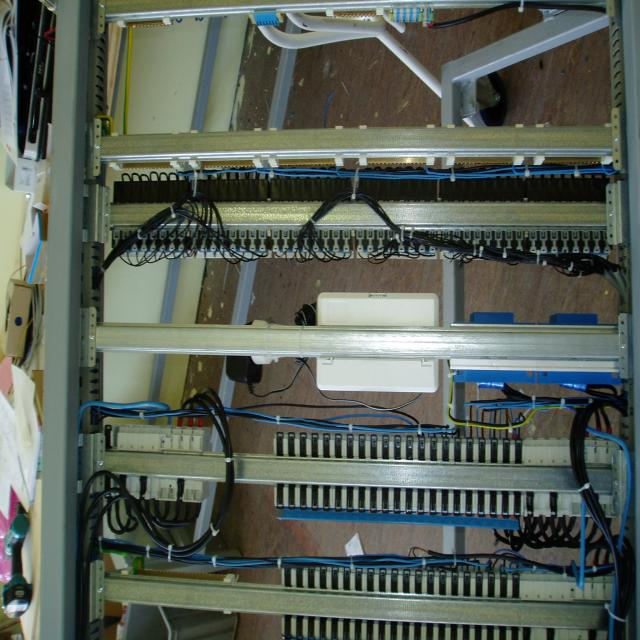Schaltkasten: (66, 0, 638, 640)
